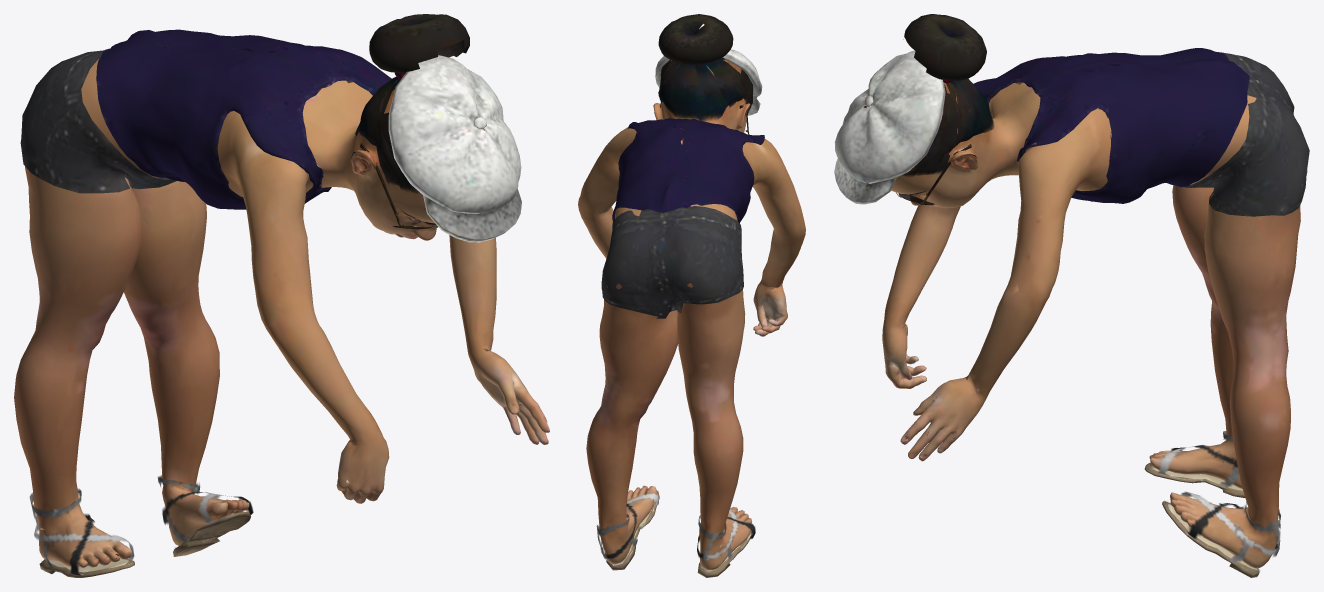
3 renders of one model, left to right at view 1: azimuth 30°, elevation 25°; view 2: azimuth 150°, elevation 25°; view 3: azimuth 270°, elevation 25°, orthographic. The views are drawn at different scales.
Parts seen in each view (by area): view 1: p00213; view 2: p00213; view 3: p00213.
Part boxes in pixels (left/top/right/bottom): p00213: left=14, top=14, right=549, bottom=577; p00213: left=578, top=14, right=805, bottom=577; p00213: left=834, top=14, right=1309, bottom=577.
Size of the model in its own units: 0.4681 by 0.8384 by 0.6247.
1 material, 1 textured.
